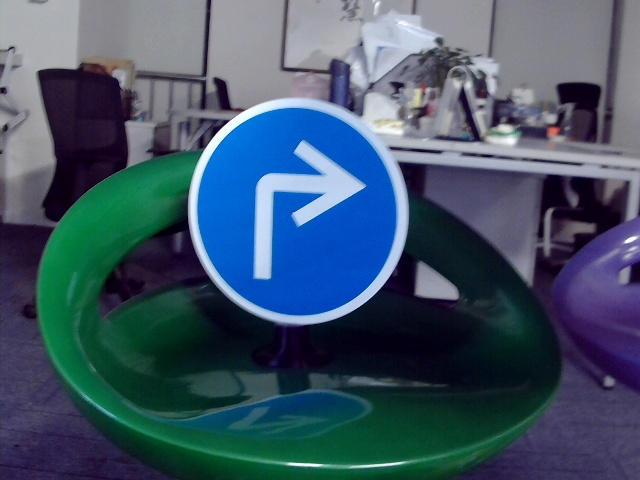turn_right: (243, 134, 363, 281)
